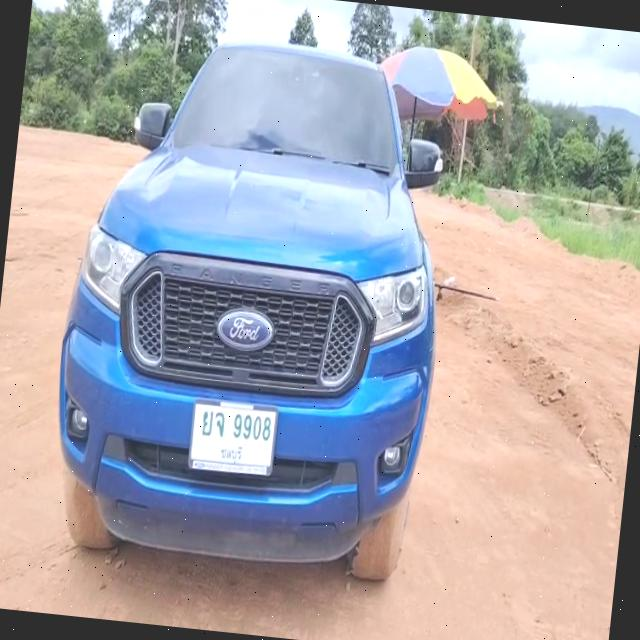Digit: (230, 412, 272, 442)
Licenseplate: (187, 399, 277, 476)
Provincename: (218, 442, 244, 465)
Thaichar: (200, 408, 226, 440)
